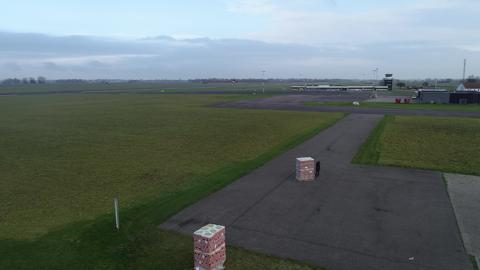RockwoolPallet: (294, 156, 314, 181)
